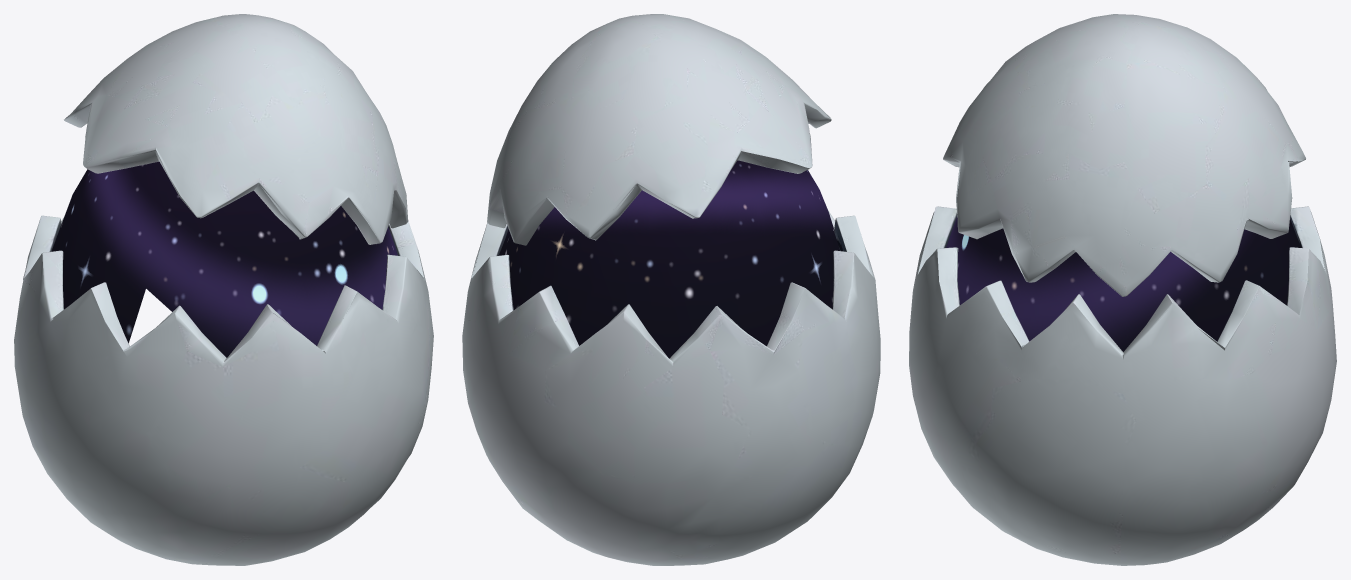
File: starry_egg.glb
3 views of the same model, side by side, from view 1: azimuth 30°, elevation 25°; view 2: azimuth 150°, elevation 25°; view 3: azimuth 270°, elevation 25° (orthographic). The views are drawn at different scales.
Visible parts, largest first — view 1: StarryEgg; view 2: StarryEgg; view 3: StarryEgg.
Part boxes in pixels (x1,y1,x2,y2): StarryEgg: [14, 14, 433, 565]; StarryEgg: [462, 14, 880, 565]; StarryEgg: [909, 14, 1336, 565].
Size of the model in its own units: 1.25 by 1.7 by 1.25.
2 materials, 2 textured.
